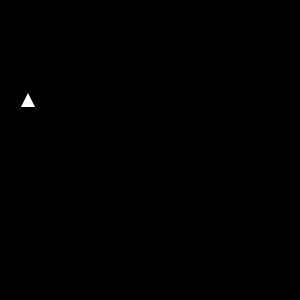triangle: (21, 93, 35, 107)
